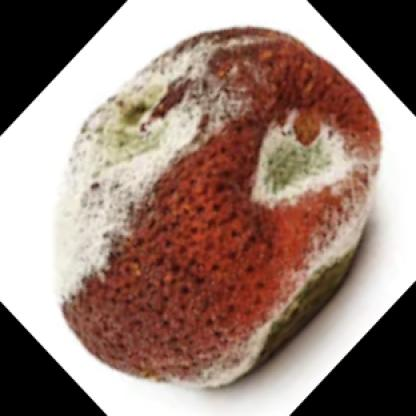rotten: (50, 26, 381, 393)
